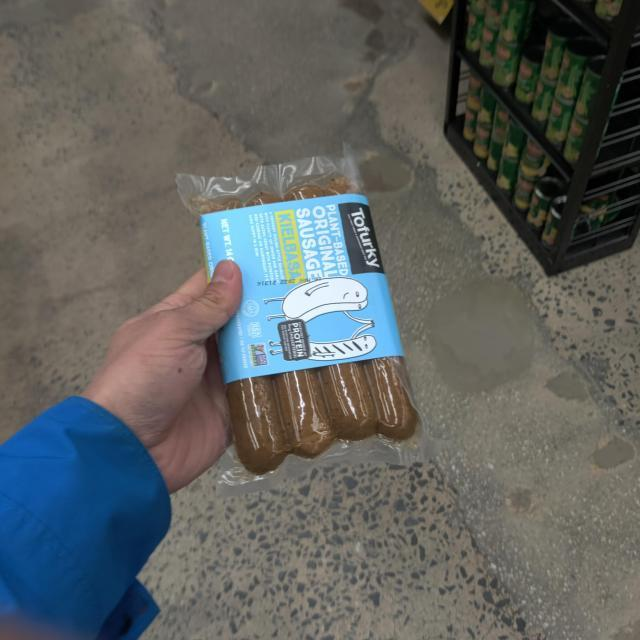Meat: (173, 169, 421, 483)
